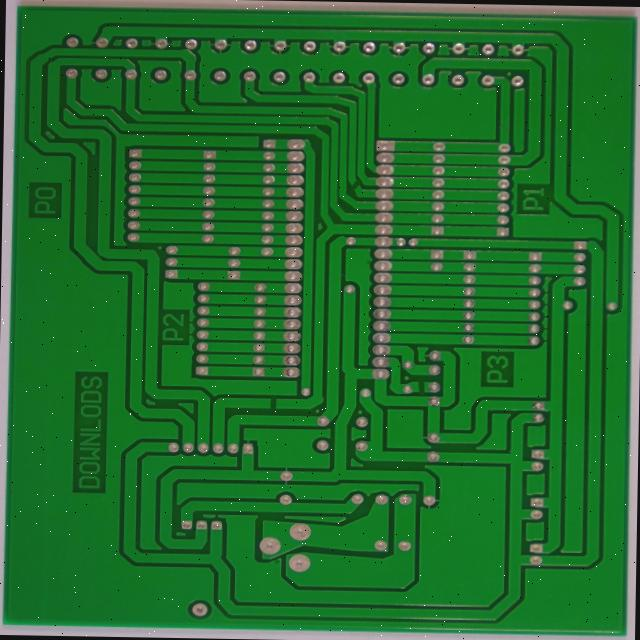open_circuit: (225, 419, 243, 437), (317, 188, 333, 202), (392, 402, 405, 419)
